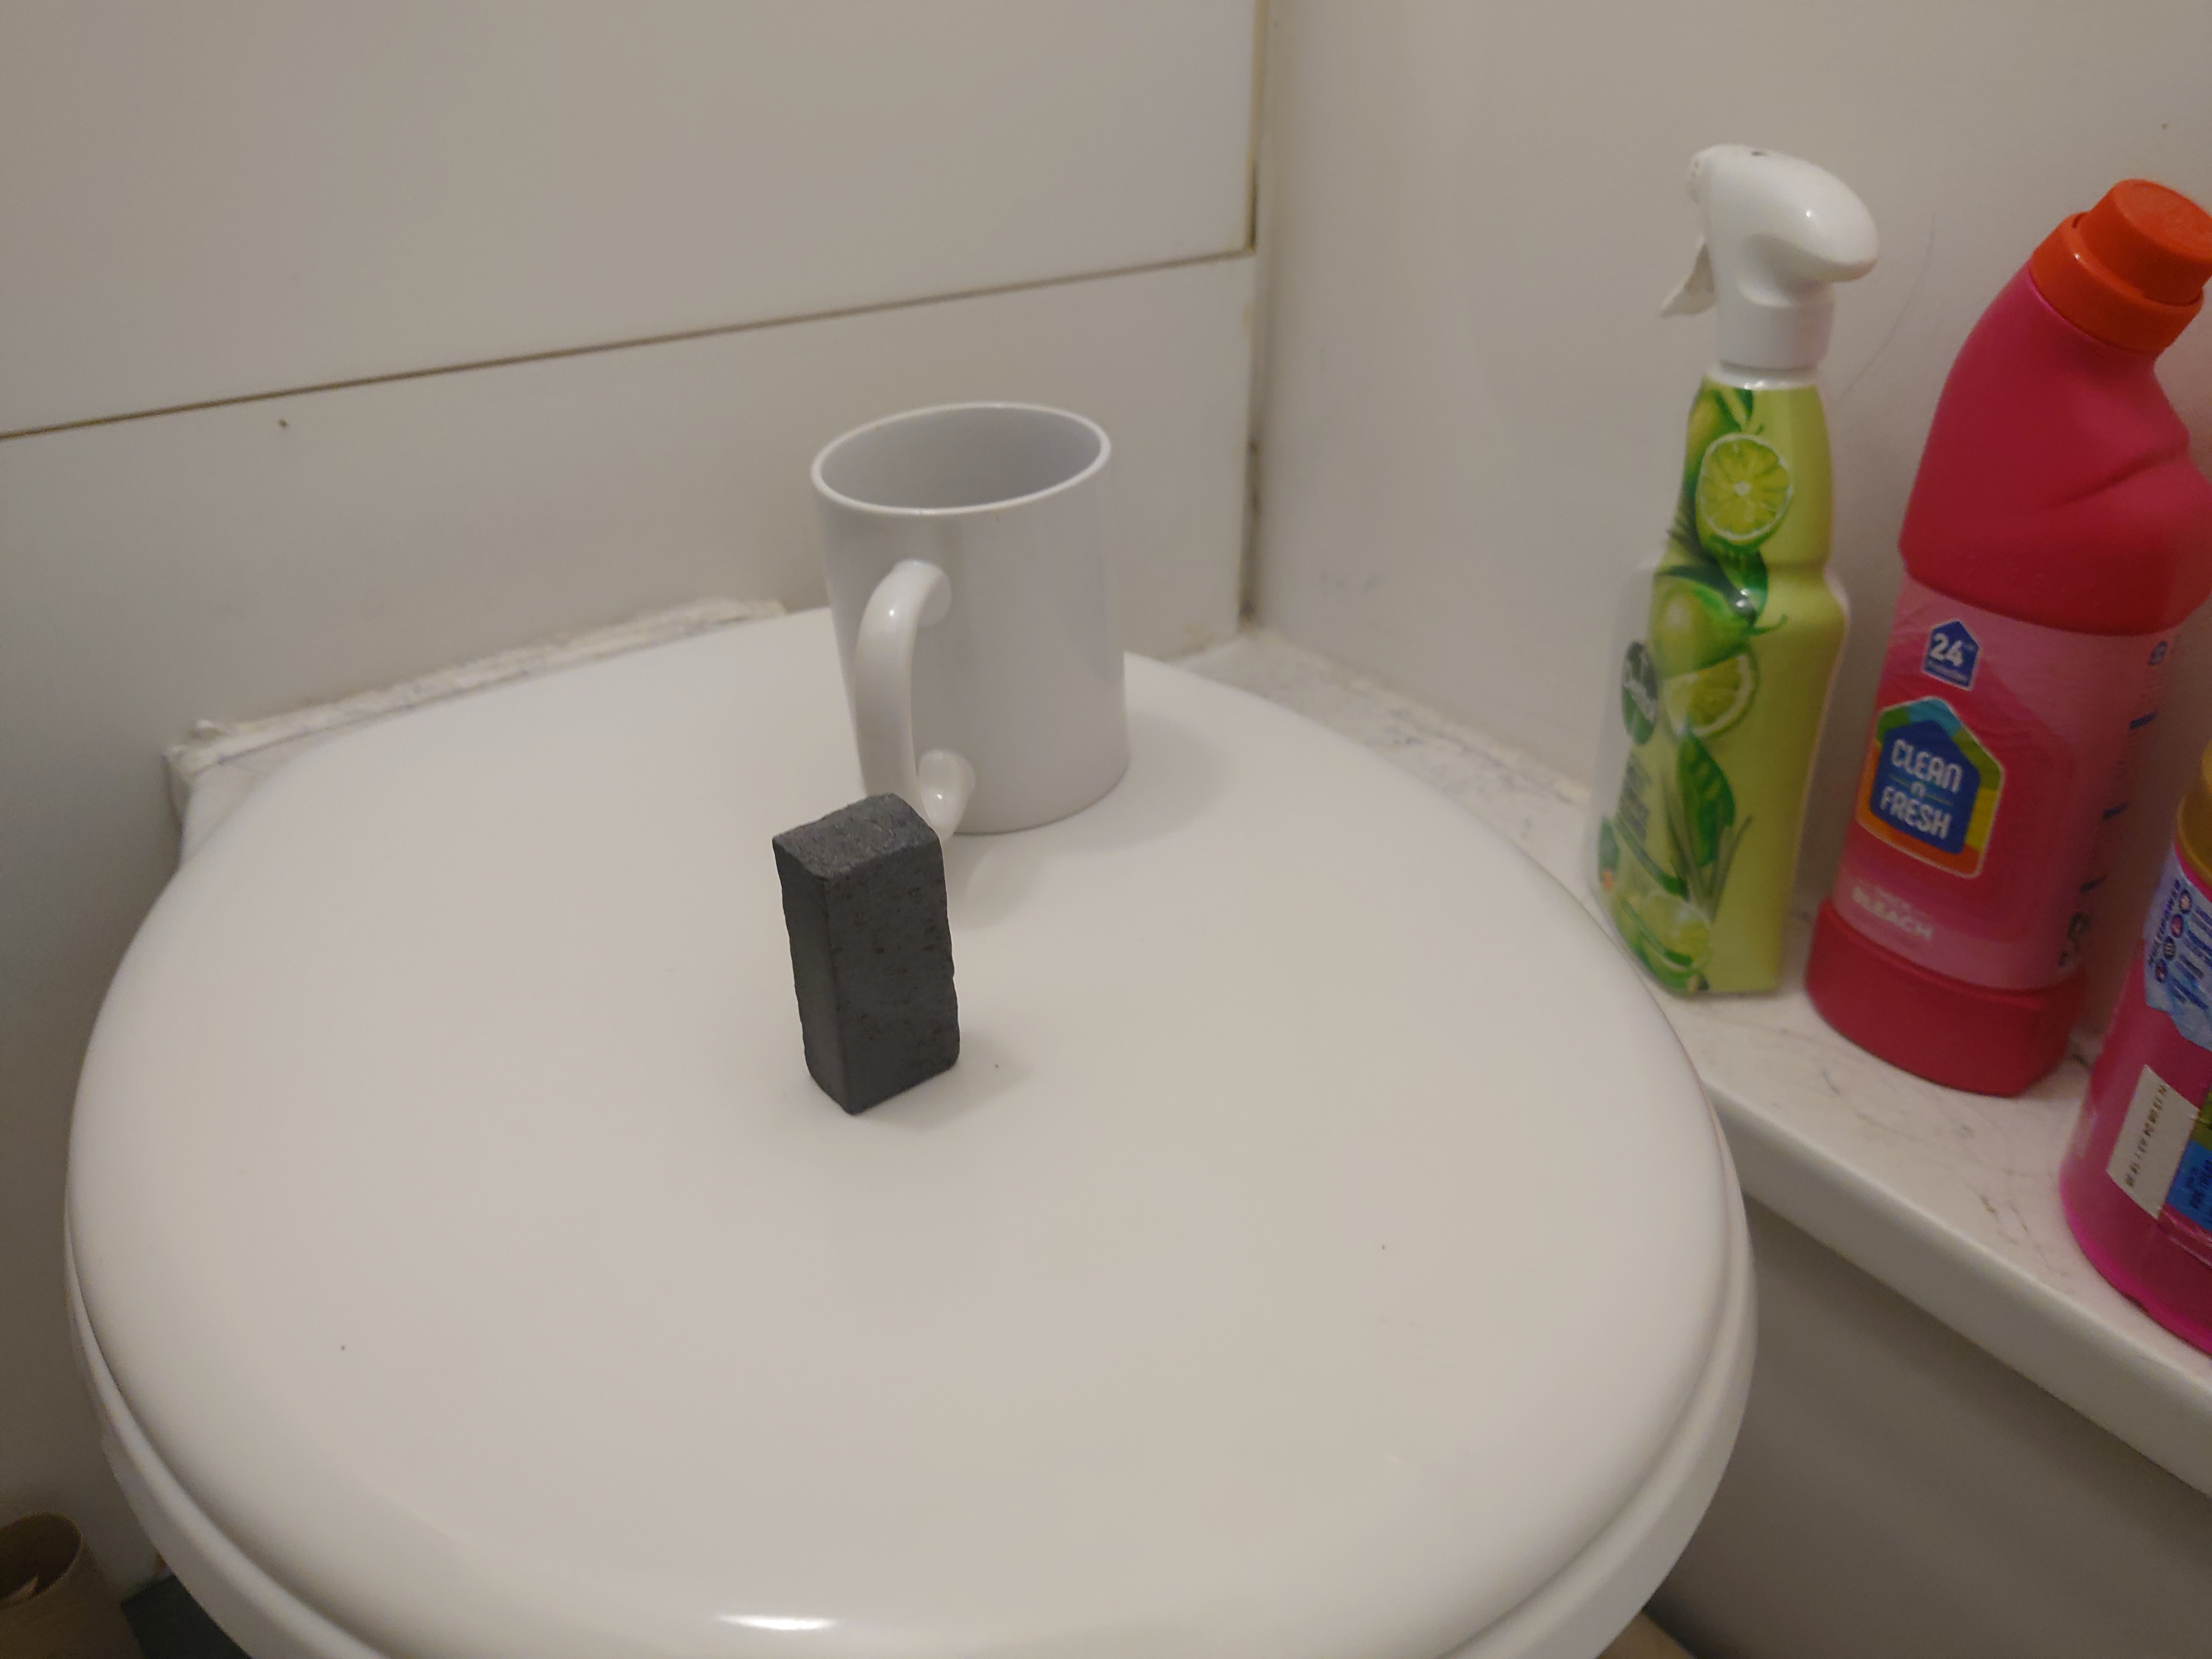cup: (799, 403, 1134, 838)
target: (770, 789, 949, 1115)
